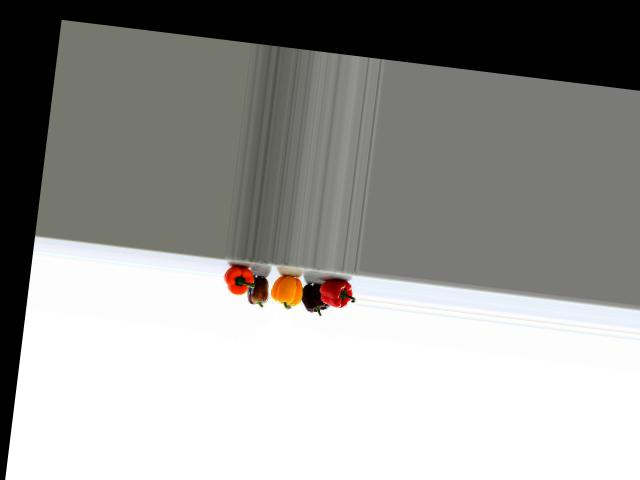bell_pepper: (220, 260, 257, 306)
